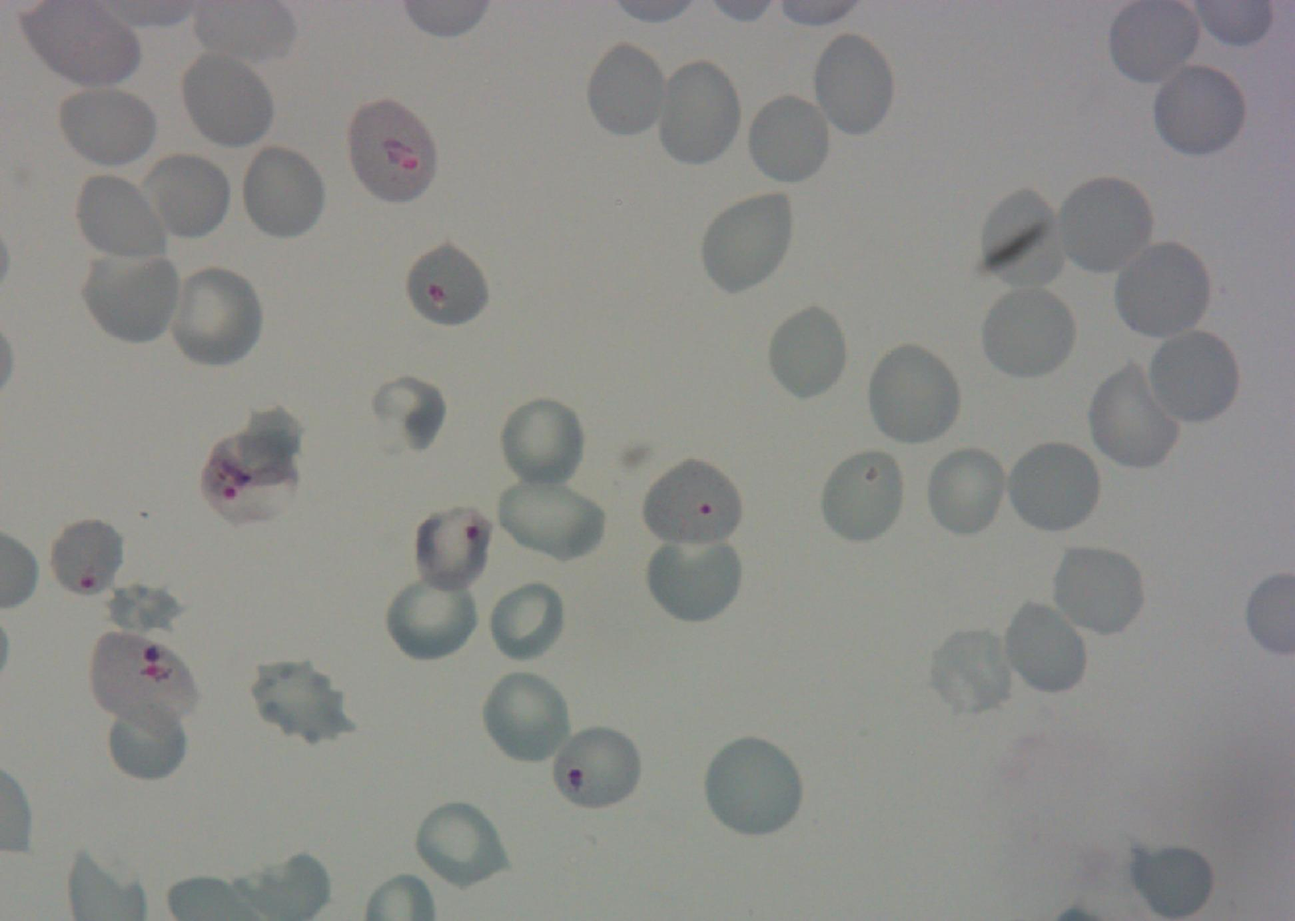Infected: (86, 627, 192, 727), (345, 103, 446, 204), (201, 430, 301, 523), (401, 243, 490, 330), (552, 726, 640, 809)
Uninfected: (164, 263, 266, 369), (701, 737, 805, 840), (863, 342, 964, 448), (1085, 366, 1183, 471), (1055, 174, 1156, 274), (699, 195, 801, 293), (1113, 241, 1212, 340), (653, 57, 743, 165), (643, 529, 744, 625), (1150, 61, 1248, 159), (980, 284, 1079, 381), (498, 470, 603, 561), (180, 50, 276, 149), (382, 567, 480, 663), (1146, 328, 1242, 426), (1005, 439, 1104, 534), (84, 248, 183, 343), (809, 32, 898, 137), (410, 797, 510, 890), (1049, 543, 1146, 638), (479, 668, 573, 766), (819, 444, 909, 545), (497, 394, 588, 491), (239, 136, 329, 234), (923, 627, 1018, 719), (976, 186, 1064, 284), (59, 83, 159, 169), (73, 172, 169, 261), (763, 304, 850, 402), (743, 93, 834, 186), (249, 659, 348, 744), (584, 41, 671, 137), (1001, 599, 1089, 693), (923, 443, 1009, 539), (145, 151, 232, 239), (105, 695, 189, 784), (485, 578, 570, 665), (366, 372, 448, 460), (1130, 842, 1216, 918), (236, 406, 303, 480), (103, 580, 183, 637)
